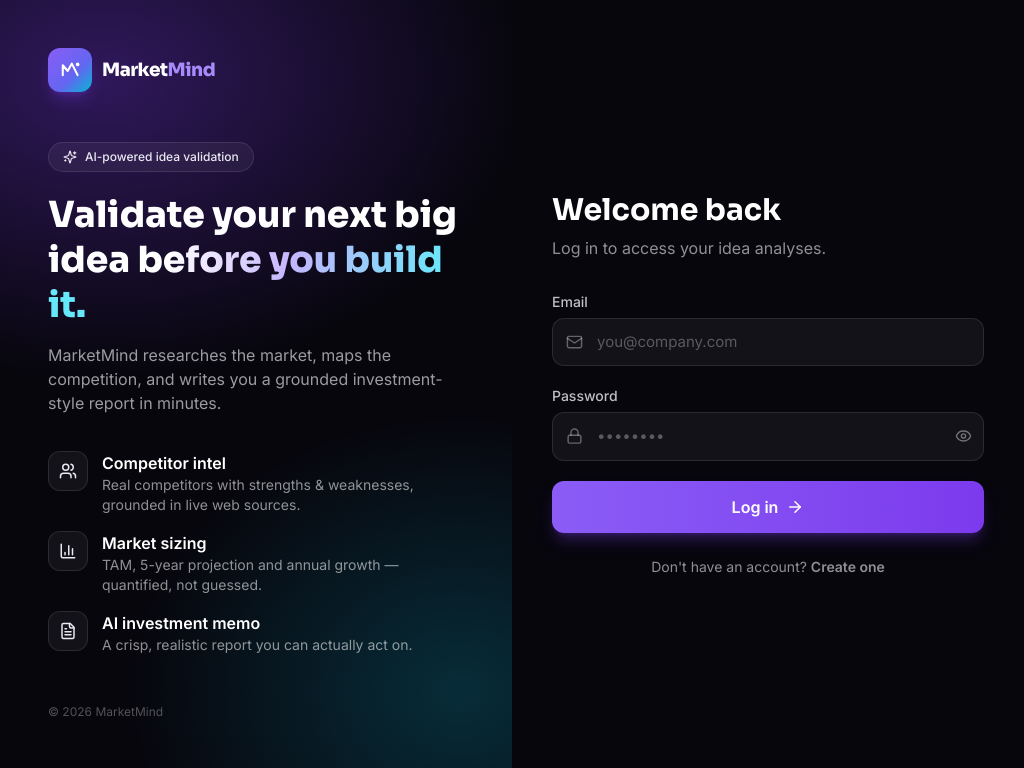
Test: Login journey › surfaces an error message when login fails
The image size is (1024, 768).
Step 1. Type "ada@example.com" into the field with placeholder "you@company.com" → (768, 342), box [552, 318, 984, 366]
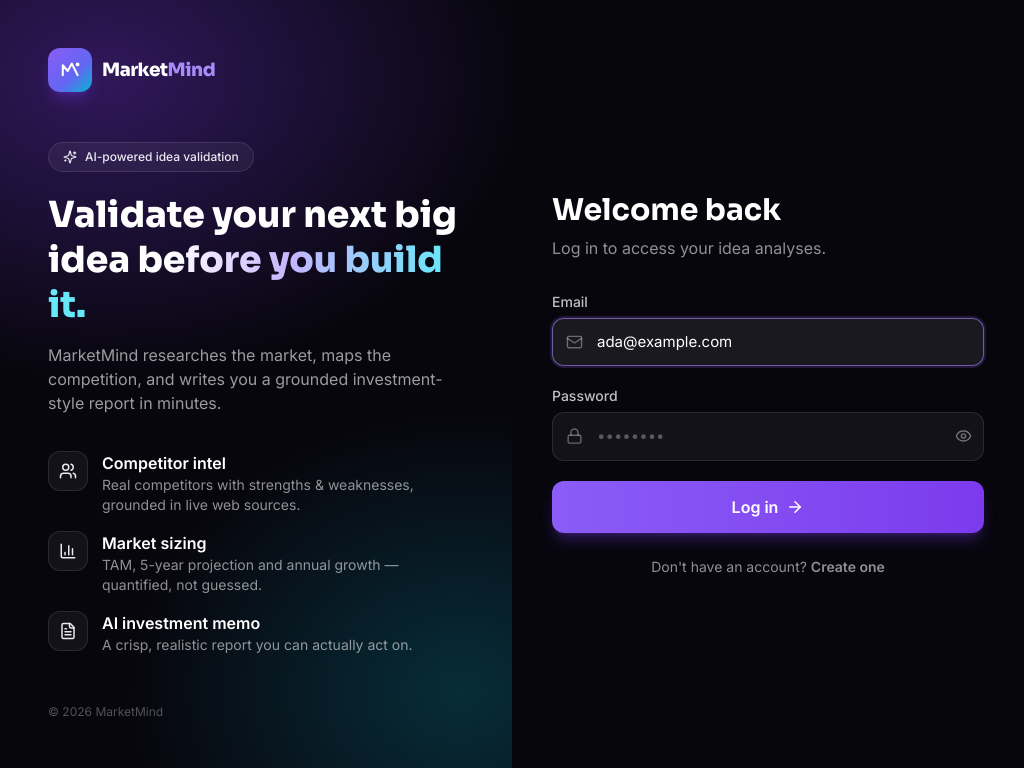
Step 2. Type "wrongpass" into the password field with placeholder "••••••••" → (768, 436), box [552, 412, 984, 460]
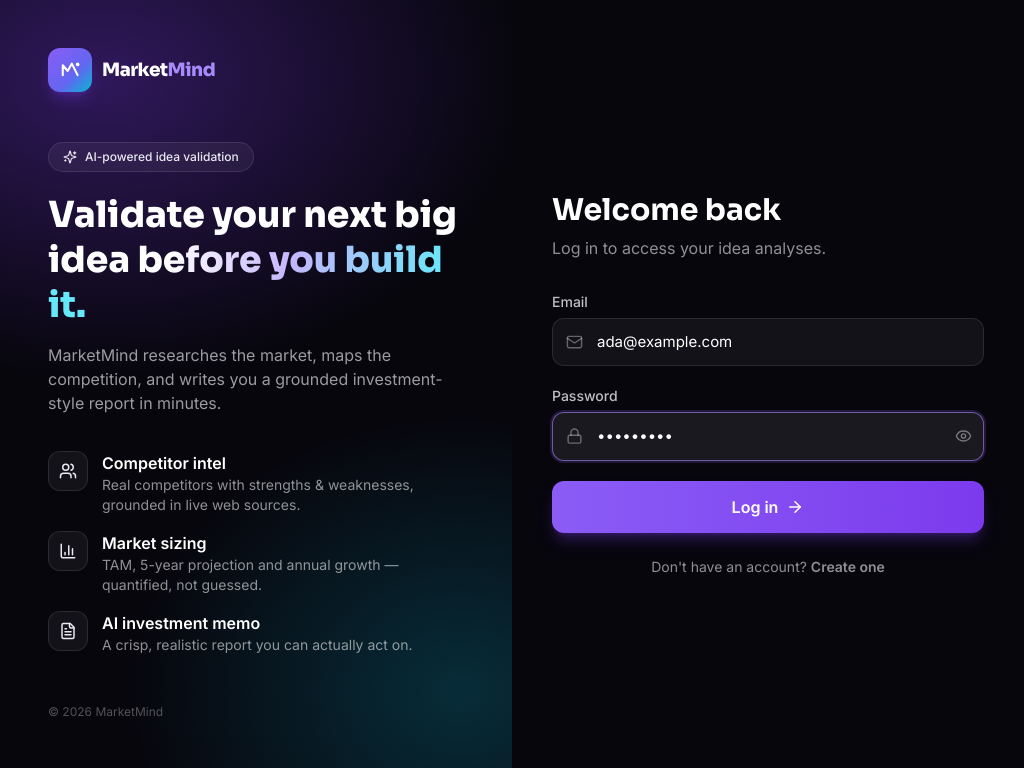
Step 3. Click the button "Log in" → (768, 506), box [552, 480, 984, 532]
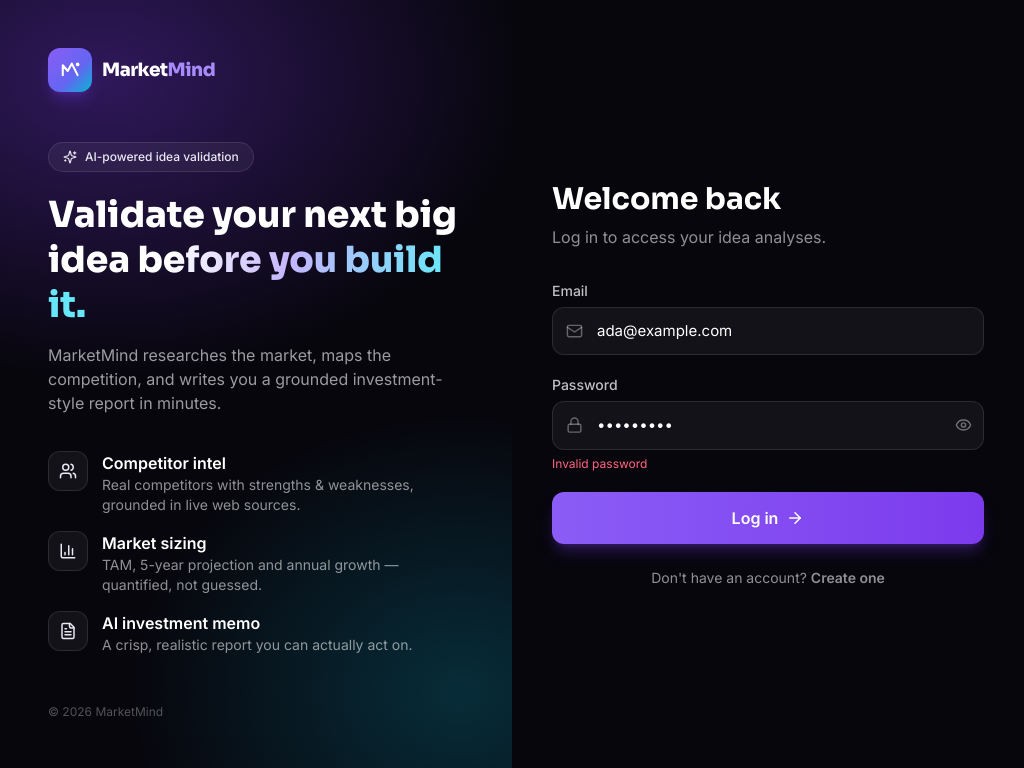
Check: the text "Invalid password" is shown, box [552, 456, 647, 470]
